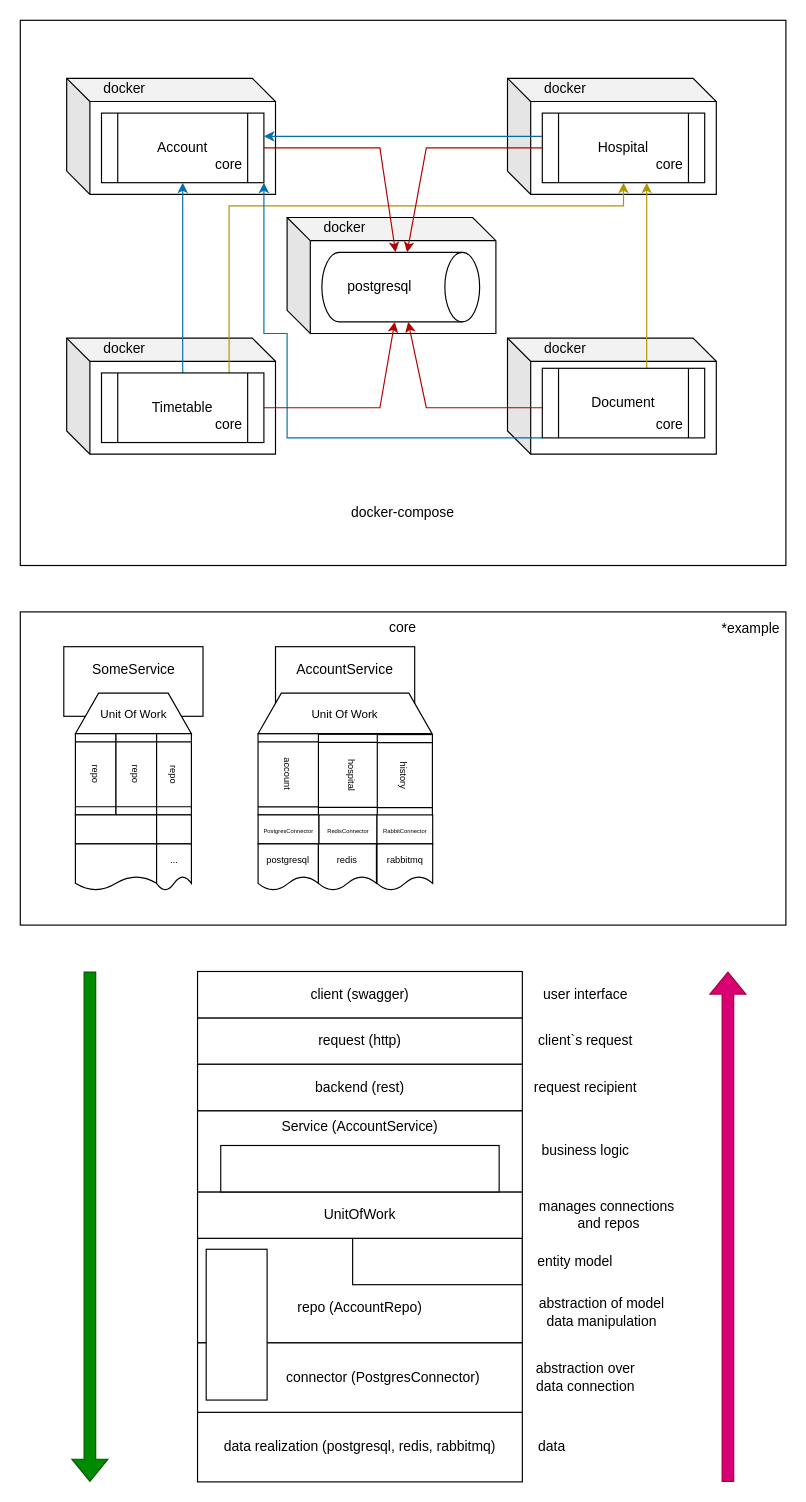
Some shapes in this 806 by 1502 pixel diagram are drawn without their labels. The centre of each missing label's shape, as x and y in pixels:
"conn..." goes at point 173,829.
"connector" goes at point 115,829.
"data realization" goes at point 115,866.
"lib (sqlalchemy, ...)" goes at point 236,1324.
"model (AccountModel)" goes at point 436,1261.
"serviceMethod (login)" goes at point 359,1168.
